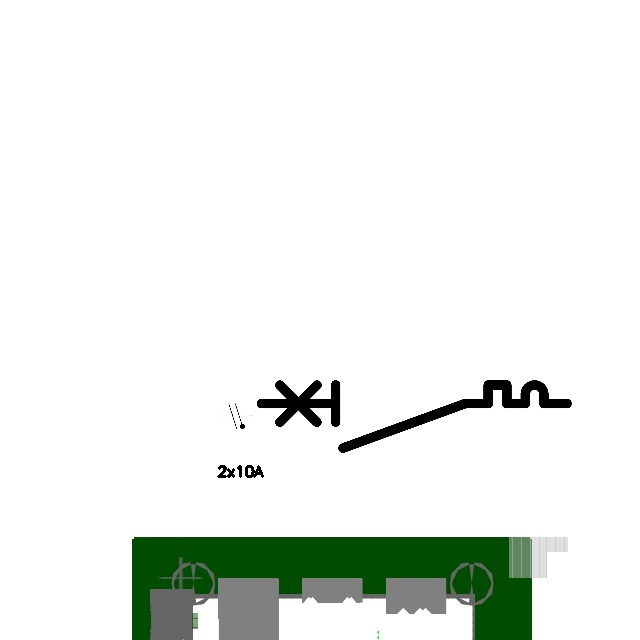interruptor_termomagnetico: (253, 377, 575, 456)
